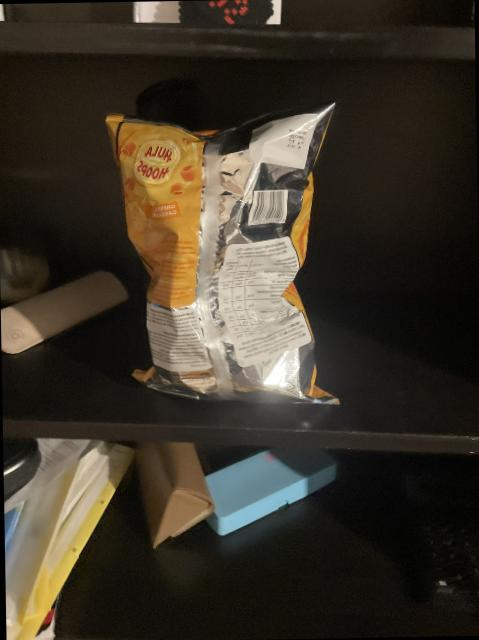Chio Hula Hoops Cheese 70g: (104, 105, 340, 398)
